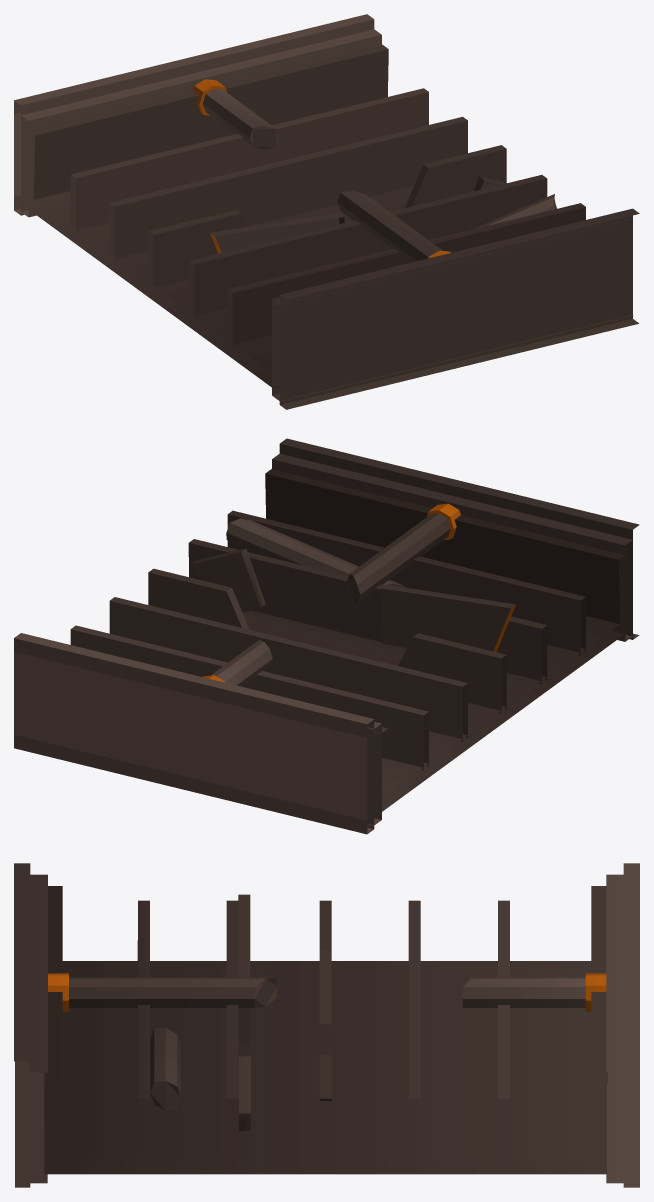
File: Bookshelf 02 Center 02.FBX
3 views of the same model, one above another, from view 1: azimuth 30°, elevation 25°; view 2: azimuth 150°, elevation 25°; view 3: azimuth 270°, elevation 25° (orthographic). The views are drawn at different scales.
Visible parts, largest first — view 1: Bookshelf 02 Center 02; view 2: Bookshelf 02 Center 02; view 3: Bookshelf 02 Center 02.
Boxes of the visible parts, x1,y1,x2,y2 form: Bookshelf 02 Center 02: [14, 14, 639, 409]; Bookshelf 02 Center 02: [14, 438, 639, 834]; Bookshelf 02 Center 02: [14, 863, 639, 1187].
Size of the model in its own units: 200 by 59.62 by 267.
